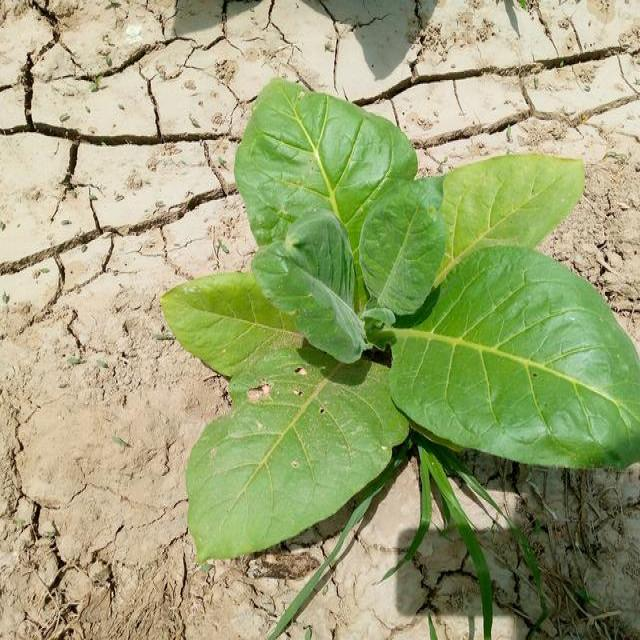crop: (158, 90, 640, 548)
